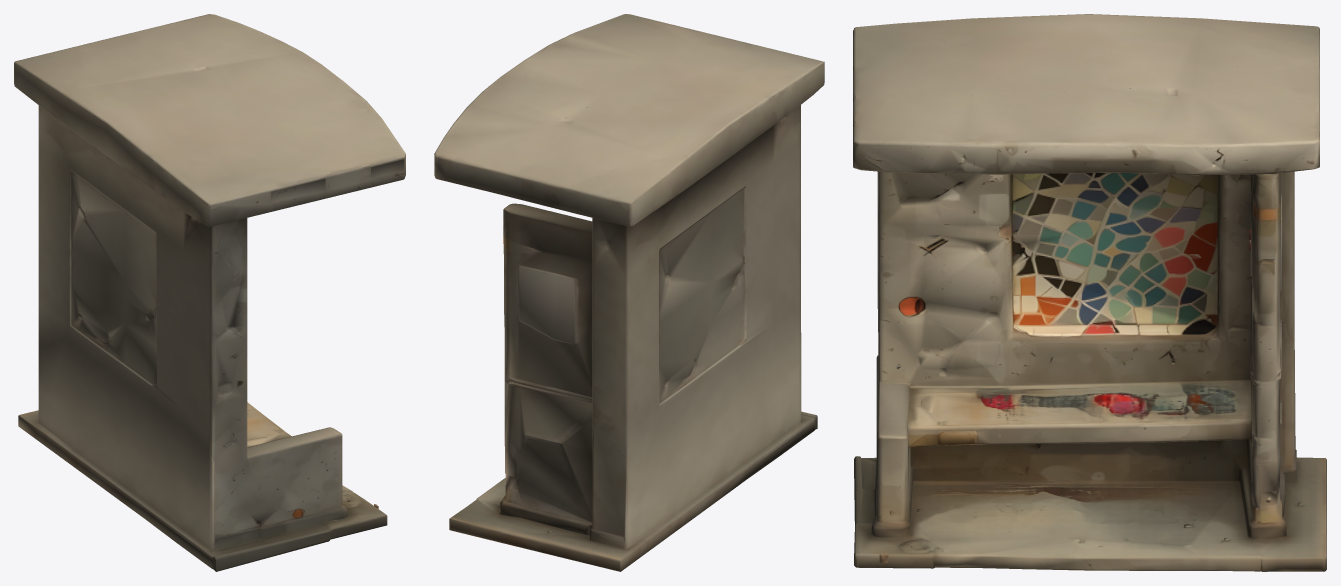
Rendered from bus_stop.glb.
The picture shows the model from 3 angles, left to right: view 1: azimuth 30°, elevation 25°; view 2: azimuth 150°, elevation 25°; view 3: azimuth 270°, elevation 25°; orthographic projection. The views are drawn at different scales.
Visible parts, largest first — view 1: tripo_node_adb8b881-174b-4d06-91f3-d020973c60ae; view 2: tripo_node_adb8b881-174b-4d06-91f3-d020973c60ae; view 3: tripo_node_adb8b881-174b-4d06-91f3-d020973c60ae.
Part boxes in pixels (box(x1,y1,x2,y2)): tripo_node_adb8b881-174b-4d06-91f3-d020973c60ae: box(14, 14, 405, 571); tripo_node_adb8b881-174b-4d06-91f3-d020973c60ae: box(434, 14, 824, 571); tripo_node_adb8b881-174b-4d06-91f3-d020973c60ae: box(853, 14, 1326, 571).
Size of the model in its own units: 1.24 by 2 by 1.89.
Materials: 1 (1 with a texture image).
